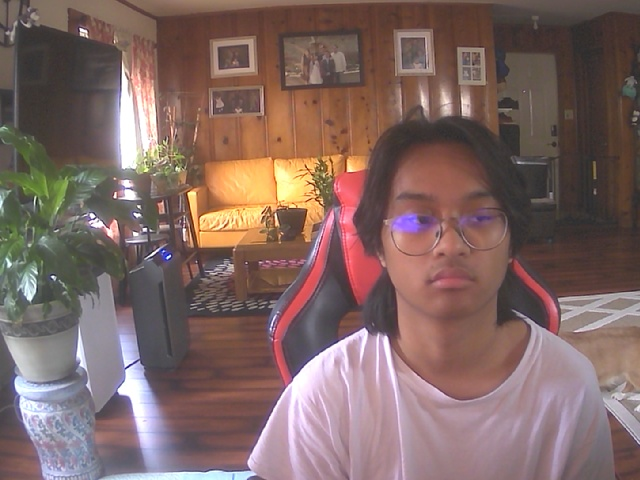neutral: (373, 120, 522, 324)
